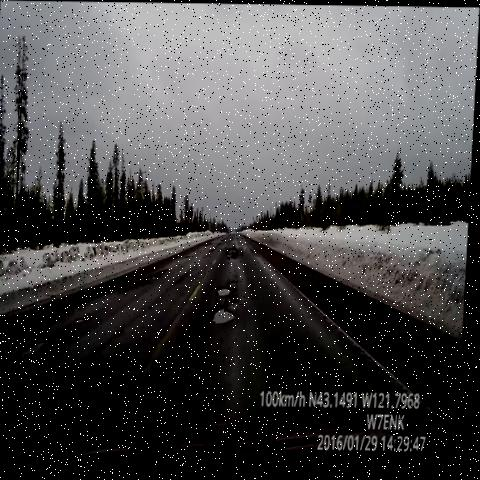pothole: (0, 319, 60, 393), (112, 258, 181, 303), (210, 300, 240, 332), (213, 279, 245, 303), (223, 240, 251, 264), (69, 308, 88, 334)
